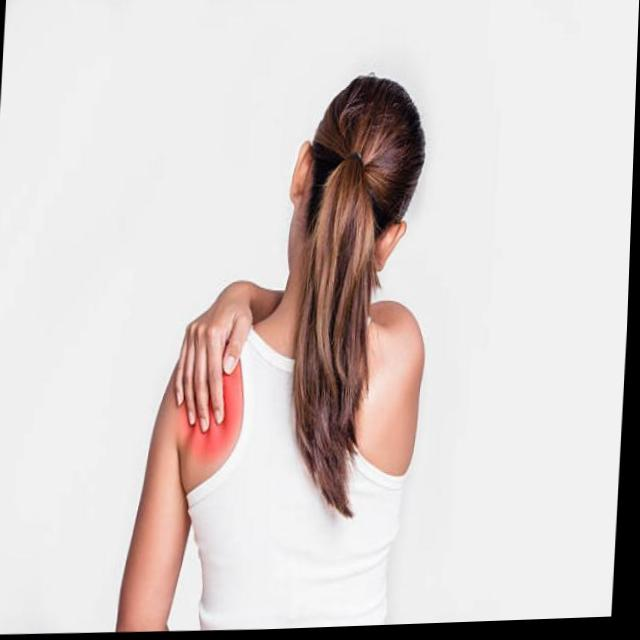no helmet: (285, 58, 435, 319)
